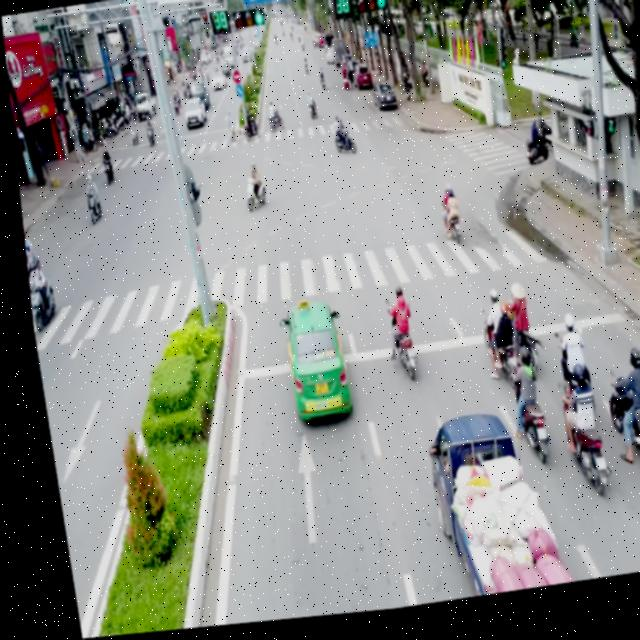Green: (233, 14, 265, 34), (355, 0, 386, 19), (484, 0, 516, 5)
